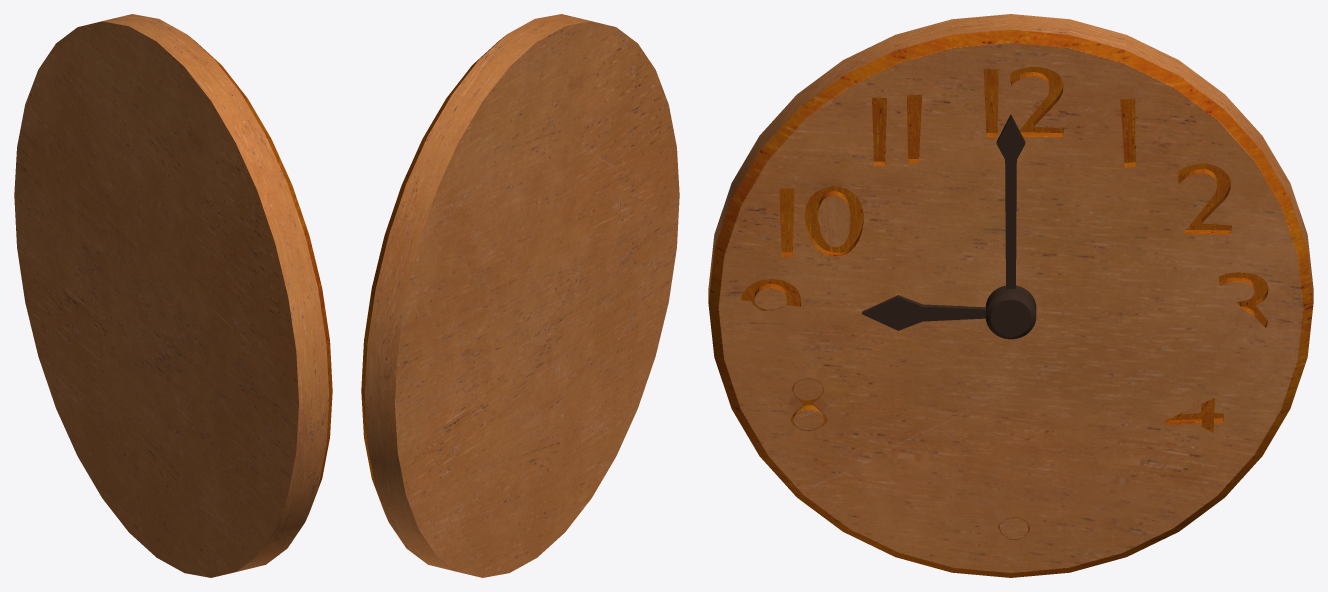
Rendered from Elec_clock.fbx.
The picture shows the model from 3 angles, left to right: view 1: azimuth 30°, elevation 25°; view 2: azimuth 150°, elevation 25°; view 3: azimuth 270°, elevation 25°; orthographic projection. The views are drawn at different scales.
Parts seen in each view (by area): view 1: Cylinder; view 2: Cylinder; view 3: Cylinder.
Part boxes in pixels (x1,y1,x2,y2): Cylinder: [14, 14, 332, 577]; Cylinder: [361, 14, 679, 577]; Cylinder: [708, 14, 1313, 577].
Bounding box in the file's own units: 61.47 × 519 × 519.
Materials: 1 (1 with a texture image).
